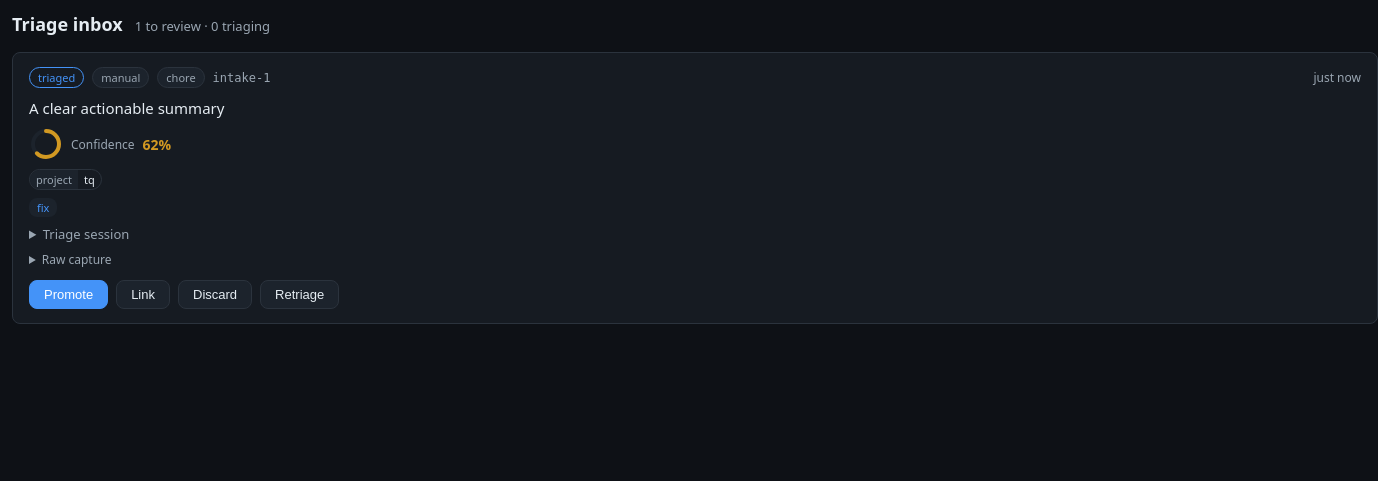
Test case: TriageInbox › lazily loads the triage session transcript when expanded
Check: the text "Looking for duplicates" is not shown
Click the heading "Triage session" at (86, 234), box [43,225,129,243]
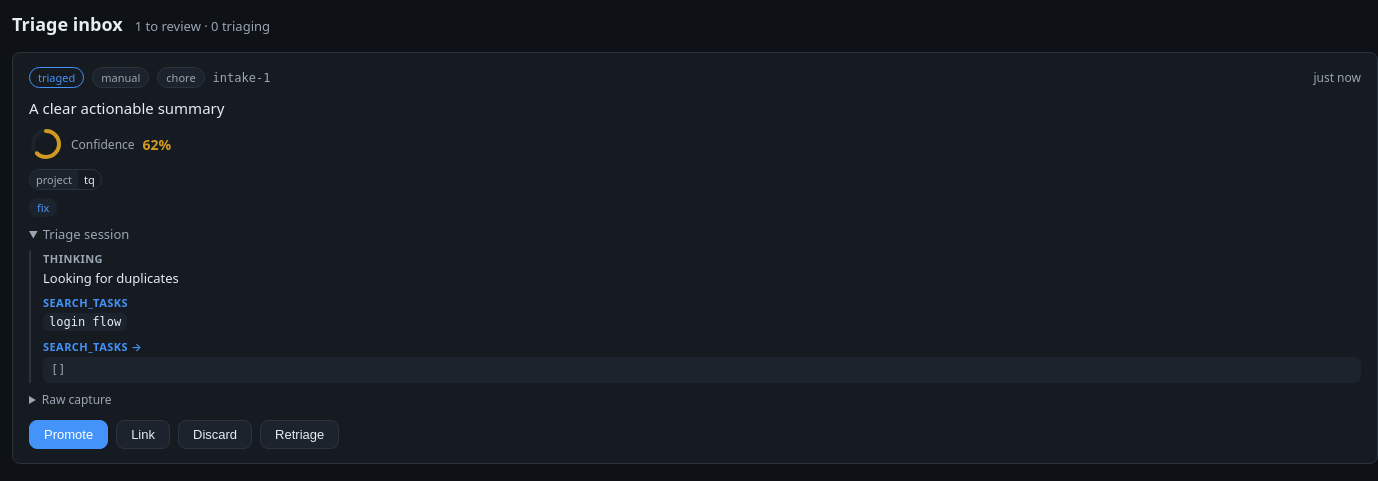
Check: the text "Looking for duplicates" is shown, box [43,269,179,287]
Check: the text "login flow" is shown, box [43,313,127,331]
